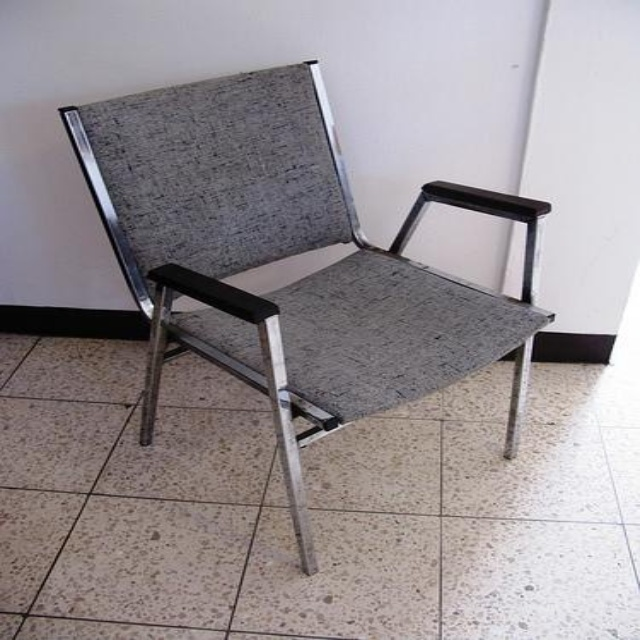obstacle: (60, 61, 551, 572)
